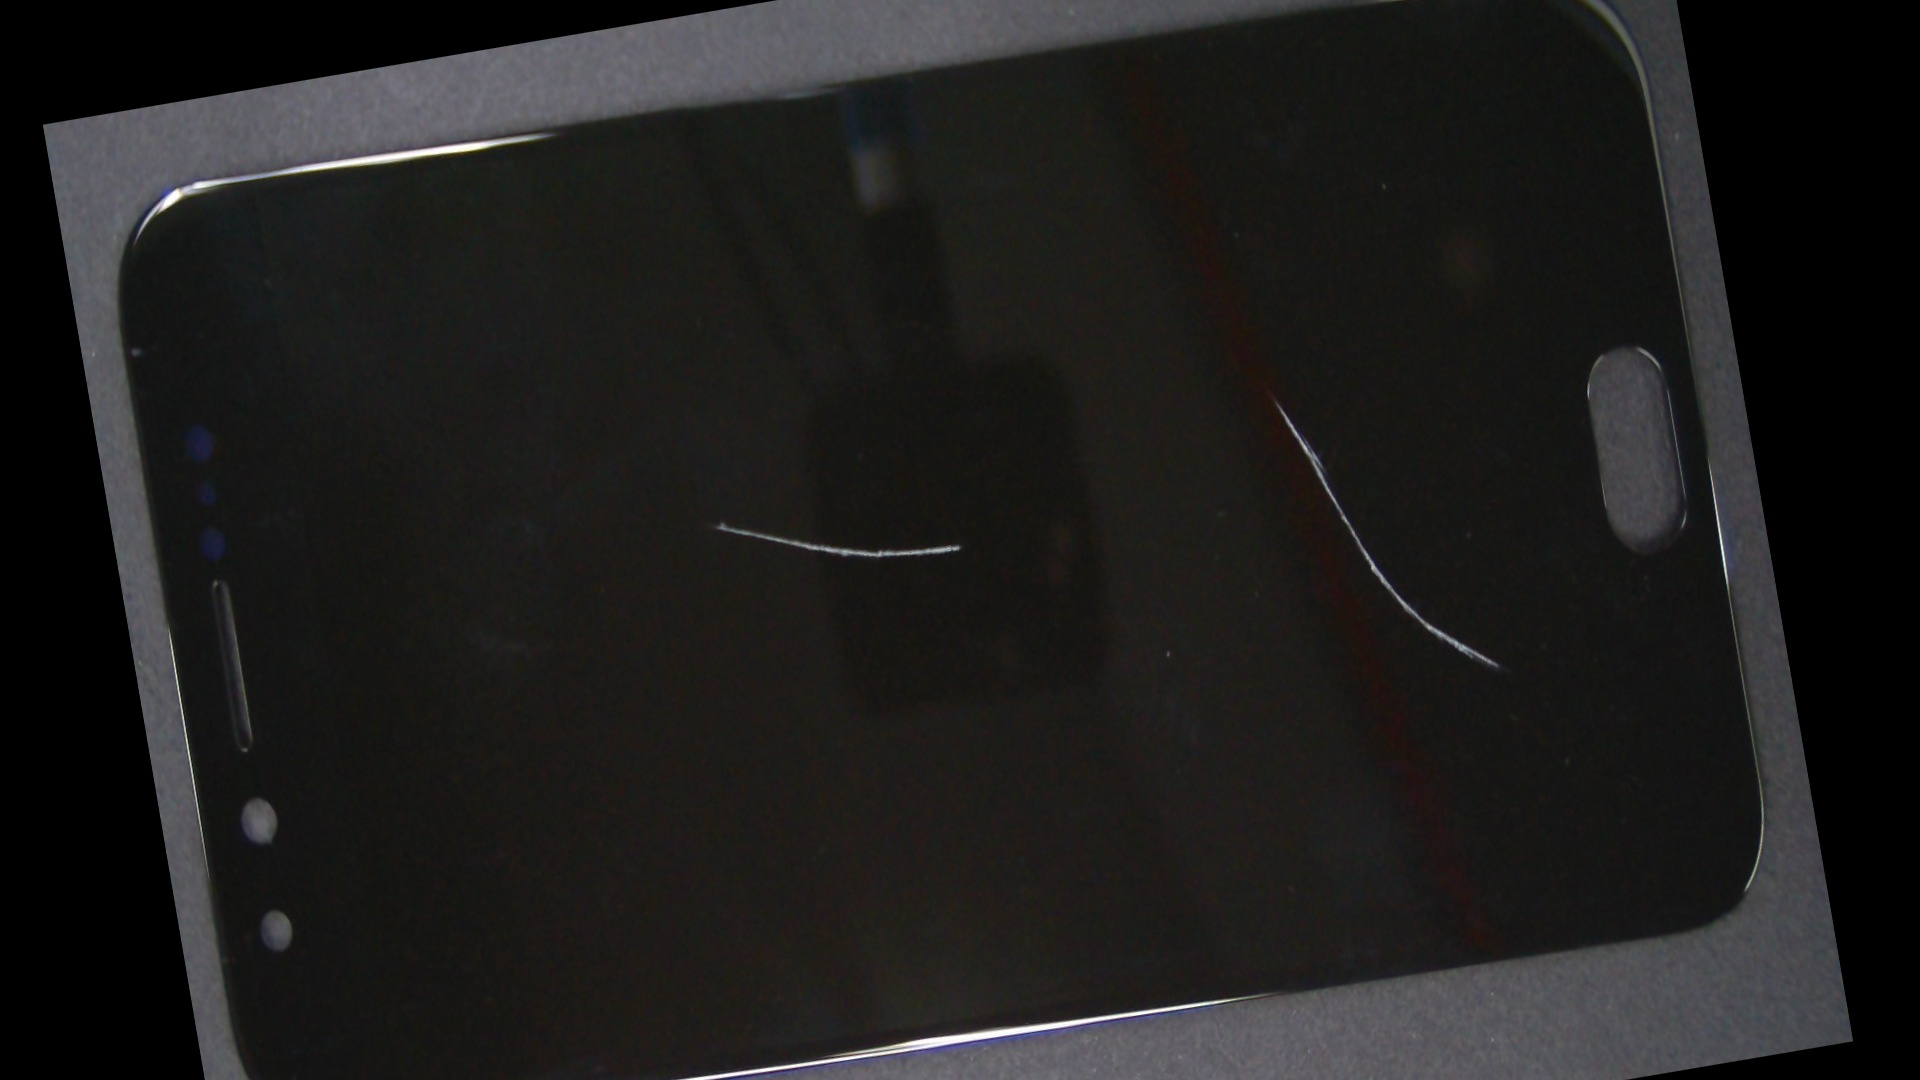oil: (658, 86, 1771, 732), (382, 222, 1062, 820)
